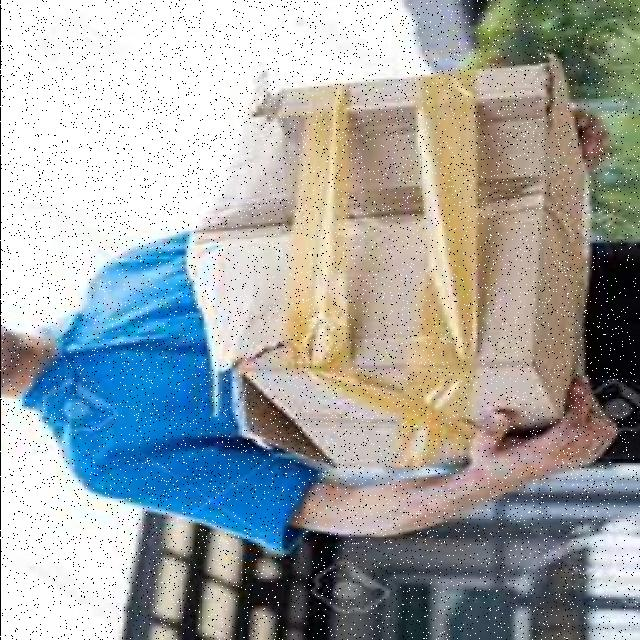defect: (180, 52, 597, 476)
